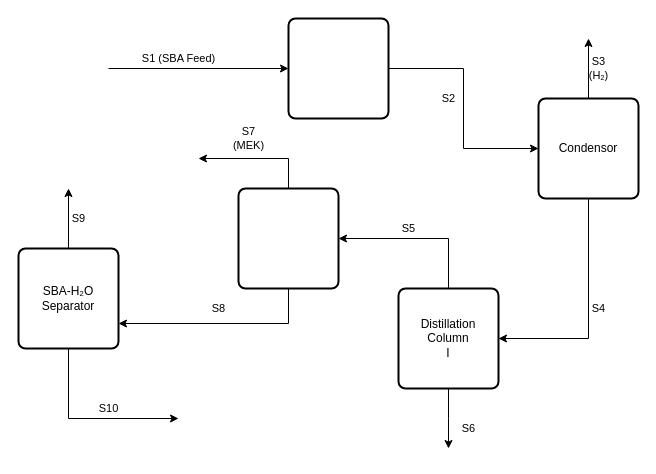
This 656x474 diagram has some shape labels left out. Each missing label, with the centre of its shape:
"Dehydrogenation Reactor" belongs at (338,68).
"Distillation Column II" belongs at (288,238).
